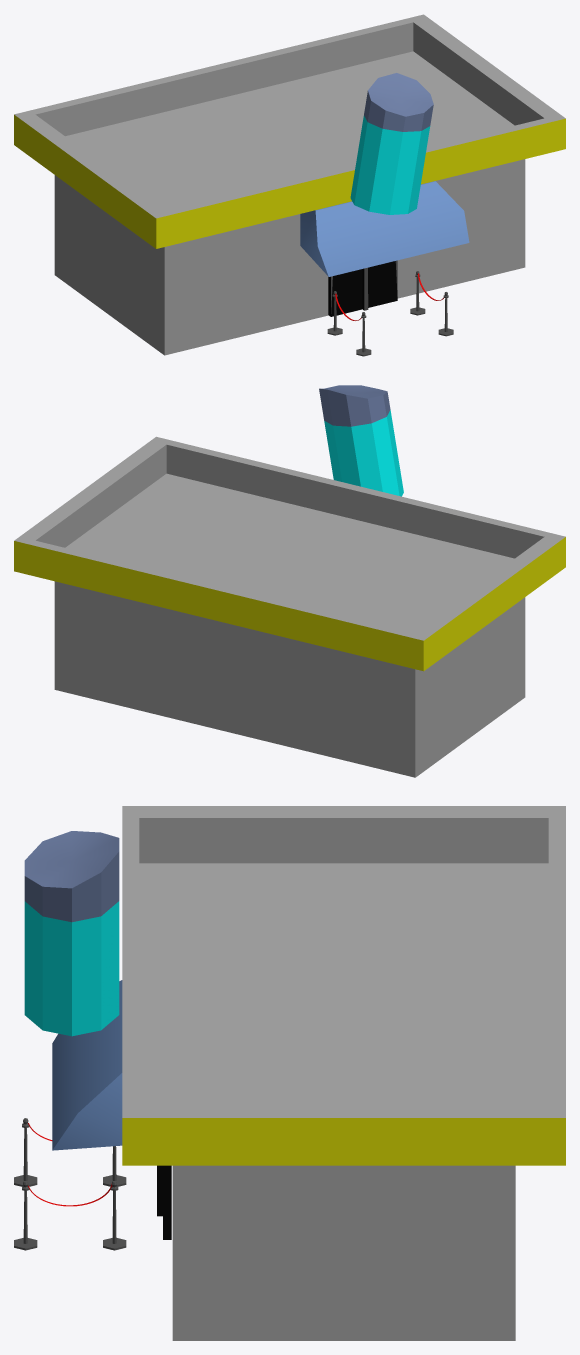
The model's file is Bar.fbx.
3 renders of one model, top to bottom at view 1: azimuth 30°, elevation 25°; view 2: azimuth 150°, elevation 25°; view 3: azimuth 270°, elevation 25°, orthographic. The views are drawn at different scales.
Visible parts, largest first — view 1: Bar, pCylinder92, pCylinder98, pCube313, pCylinder97; view 2: Bar, pCylinder98; view 3: Bar, pCylinder98, pCylinder92, pCylinder97, pCube313.
Boxes of the visible parts, bbox=[...] form: Bar: bbox=[14, 14, 565, 355]; pCylinder92: bbox=[300, 181, 469, 276]; pCylinder98: bbox=[350, 73, 433, 214]; pCube313: bbox=[328, 260, 397, 316]; pCylinder97: bbox=[410, 271, 453, 336]; Bar: bbox=[14, 436, 565, 777]; pCylinder98: bbox=[319, 385, 403, 496]; Bar: bbox=[122, 806, 565, 1340]; pCylinder98: bbox=[24, 831, 119, 1036]; pCylinder92: bbox=[52, 980, 122, 1150]; pCylinder97: bbox=[14, 1181, 126, 1250]; pCube313: bbox=[157, 1165, 171, 1239].
Size of the model in its own units: 215 by 122 by 161.
